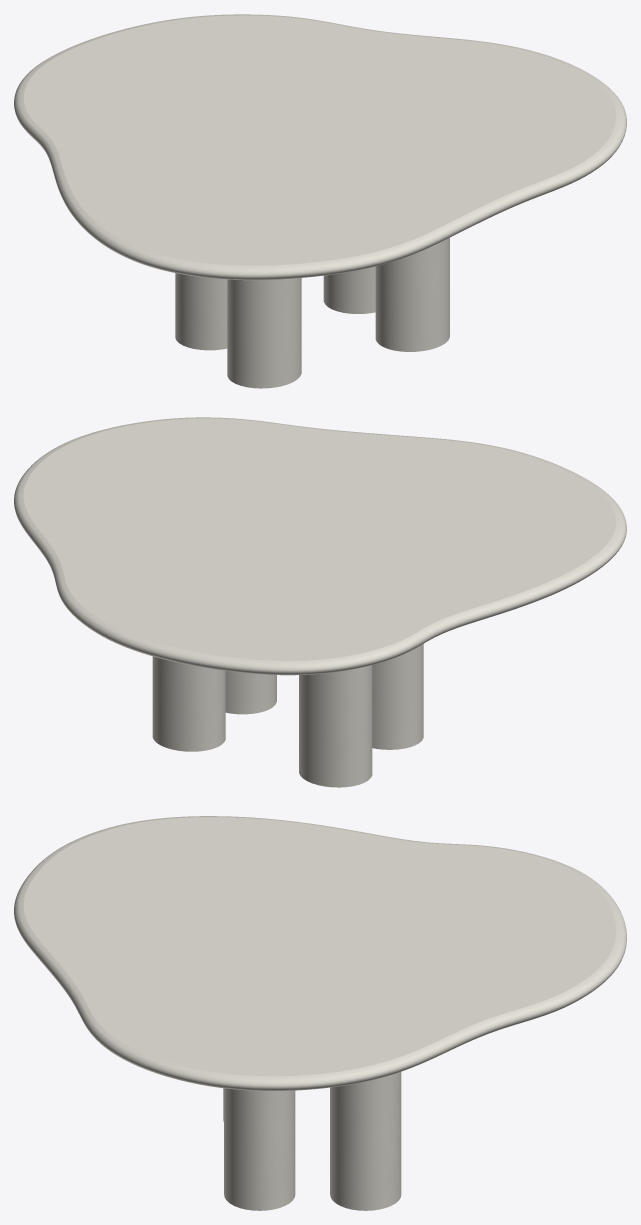
Rendered from pale_topone_round_grove.glb.
The picture shows the model from 3 angles, top to bottom: view 1: azimuth 30°, elevation 25°; view 2: azimuth 150°, elevation 25°; view 3: azimuth 270°, elevation 25°; orthographic projection. The views are drawn at different scales.
Parts seen in each view (by area): view 1: round_topone, grove; view 2: round_topone, grove; view 3: round_topone, grove.
Boxes of the visible parts, x1=… form: round_topone: x1=14, y1=14, x2=626, y2=280; grove: x1=175, y1=237, x2=449, y2=388; round_topone: x1=14, y1=417, x2=626, y2=675; grove: x1=152, y1=644, x2=423, y2=787; round_topone: x1=14, y1=816, x2=626, y2=1090; grove: x1=223, y1=1072, x2=401, y2=1210.
Bounding box in the file's own units: 6.83 × 2.51 × 6.6.
1 material, 1 textured.
